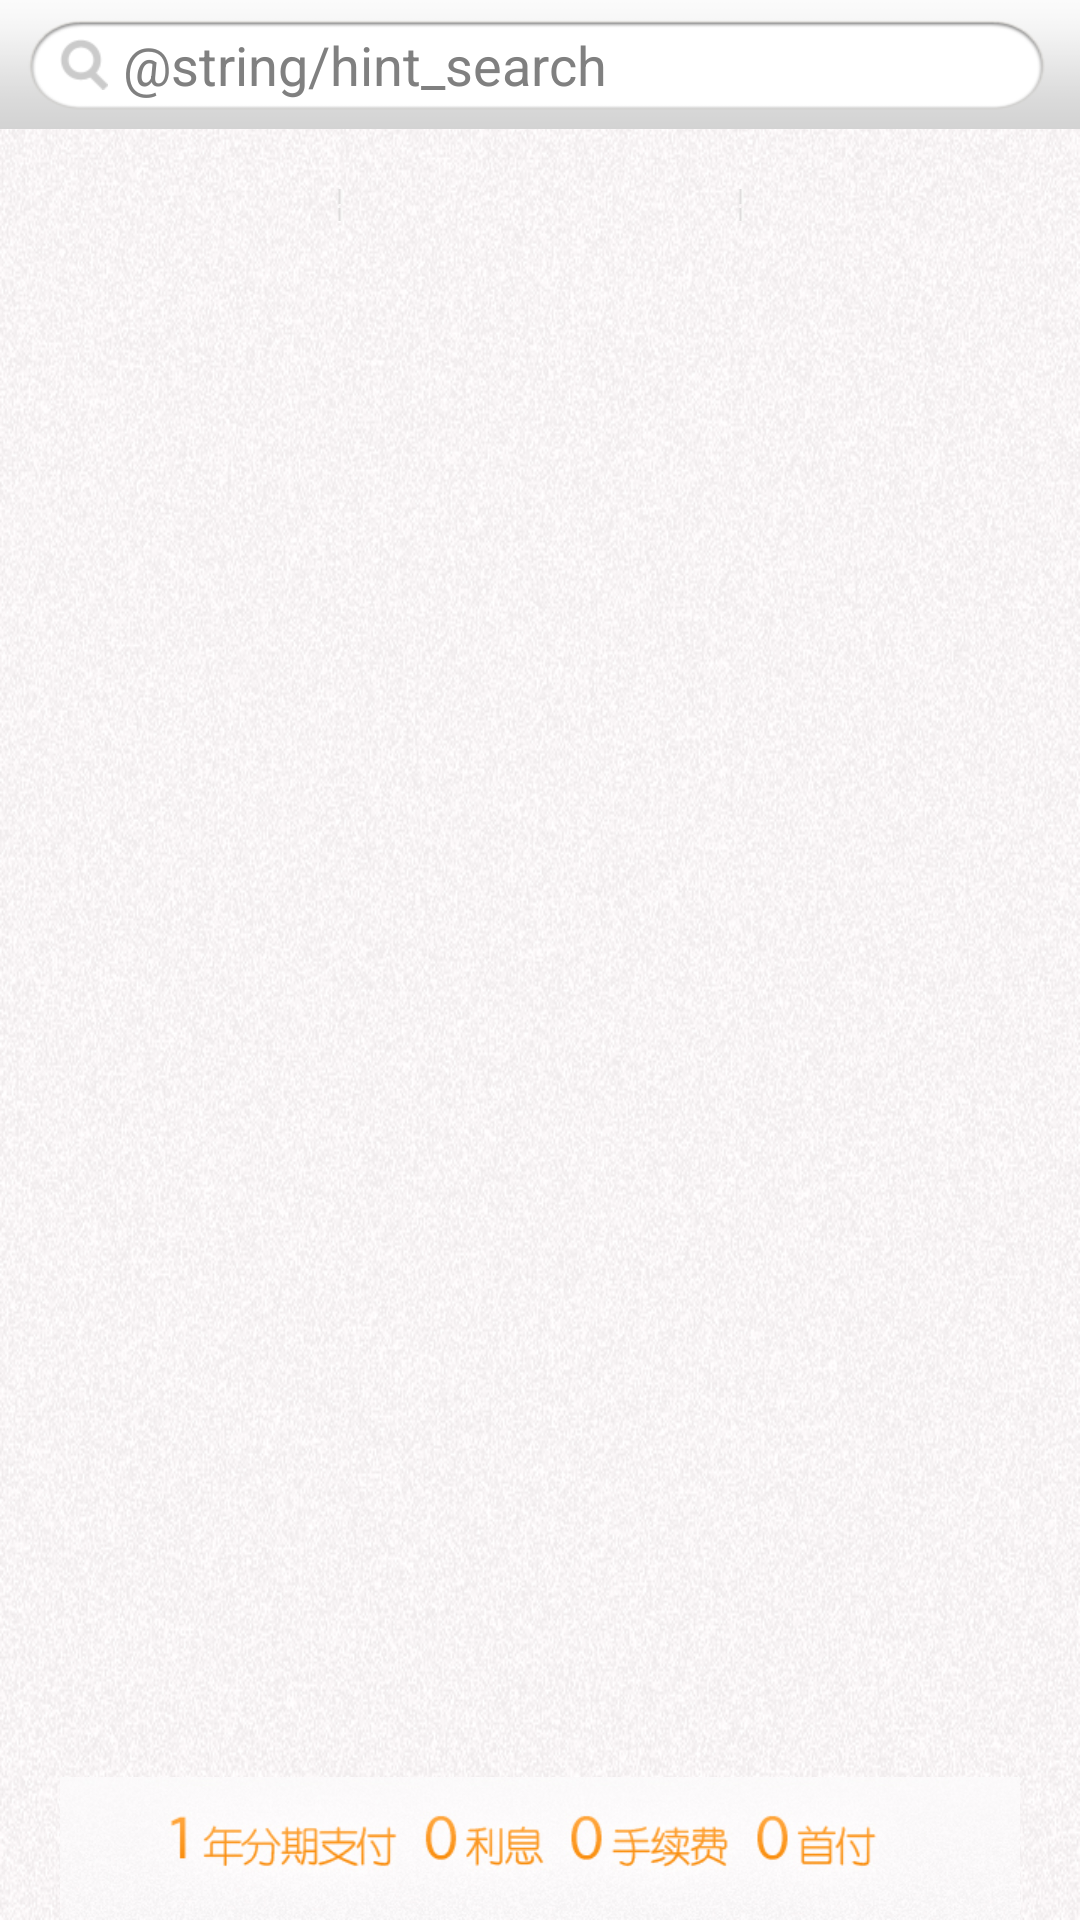

Icon bounding boxes for this 1080px×1920px phone screenshot, format bbox=(x1, y1, x2, y2):
search: bbox=(61, 40, 108, 90)
